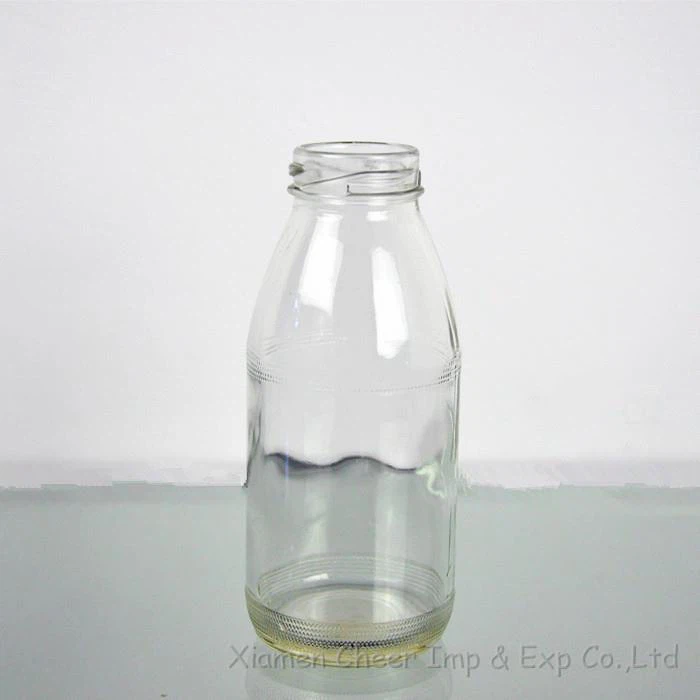glass_bottle: (225, 121, 474, 670)
